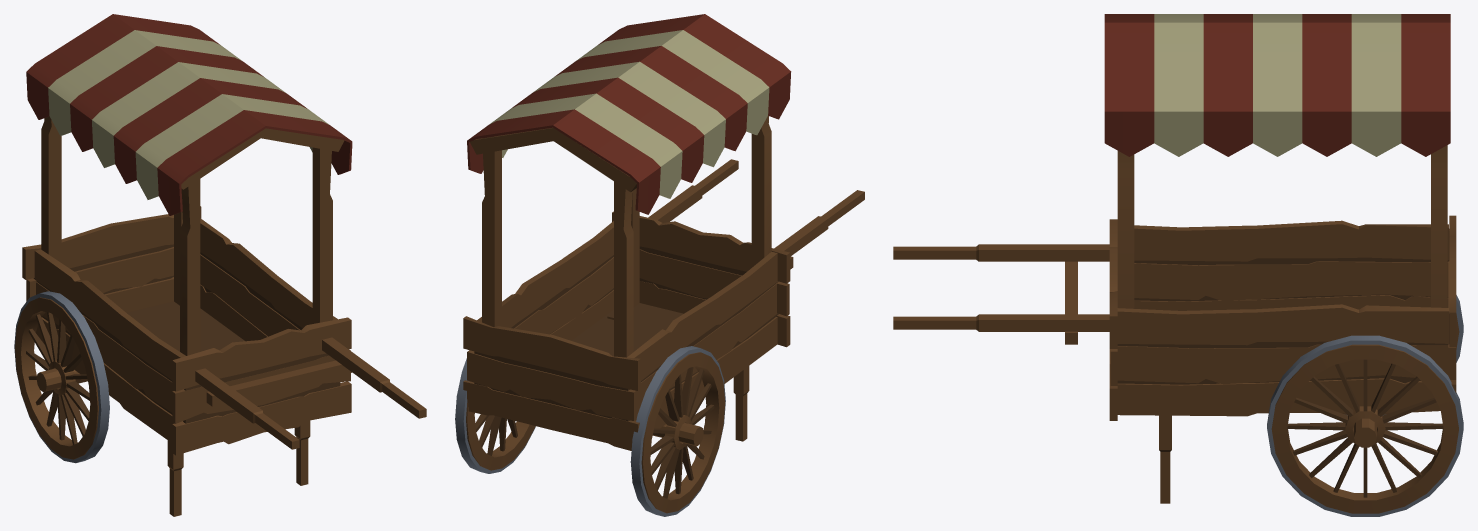
File: cart.glb
3 renders of one model, left to right at view 1: azimuth 30°, elevation 25°; view 2: azimuth 150°, elevation 25°; view 3: azimuth 270°, elevation 25°, orthographic. The views are drawn at different scales.
Visible parts, largest first — view 1: Cart; view 2: Cart; view 3: Cart.
Boxes of the visible parts, x1,y1,x2,y2 form: Cart: (14,14,426,516); Cart: (455,14,864,516); Cart: (893,14,1463,516).
Size of the model in its own units: 0.462 by 0.7961 by 0.9274.
Materials: 1 (1 with a texture image).
